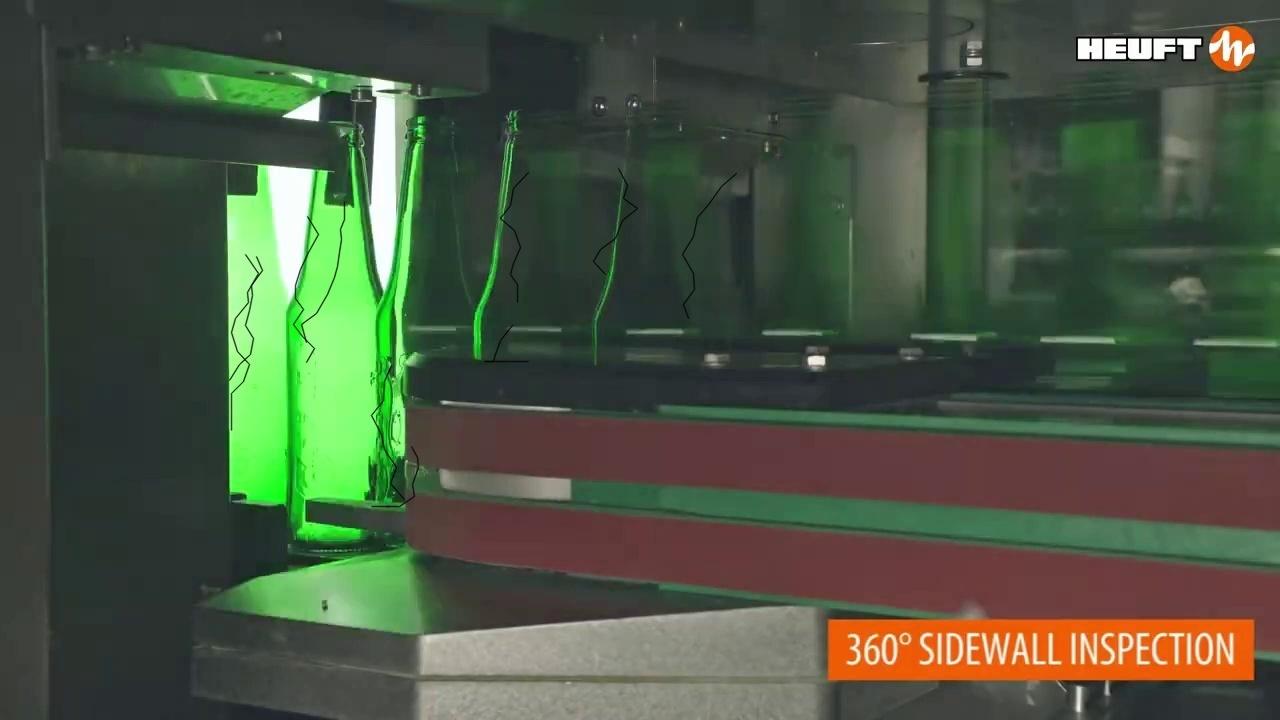bottle: (285, 123, 386, 550), (377, 119, 473, 503), (227, 165, 290, 503)
crack: (301, 201, 344, 342), (231, 254, 258, 430), (593, 168, 637, 274), (500, 172, 528, 302), (371, 446, 418, 506)
